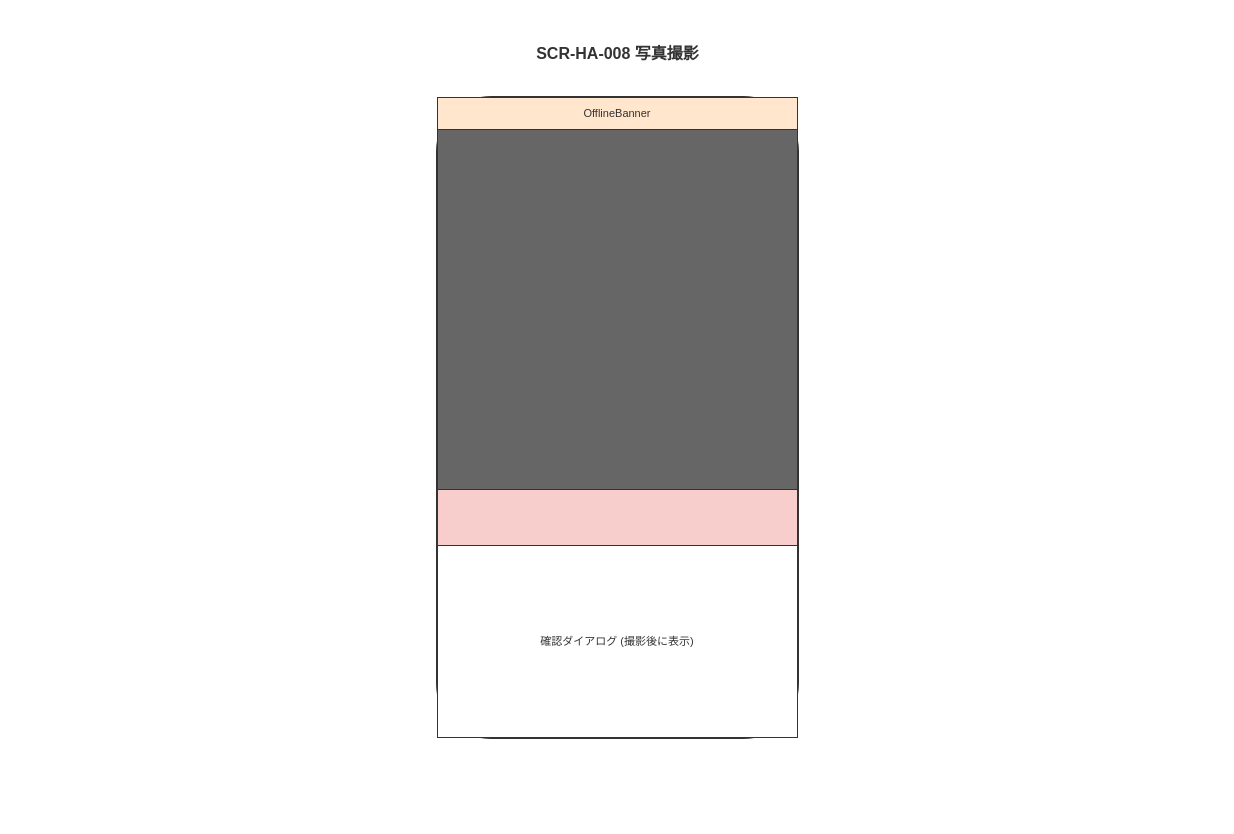
The diagram is 1234 pixels wide and 834 high, and some of its shapes have lost their labels. The shapes that lost their labels are listed below. From the top down, each one's centre as x and y in pixels, then its label:
(x=617, y=309): カメラプレビュー (CMP-HA-003) 撮影対象: {指示文}
(x=617, y=517): 撮影 ボタン (72dp)
